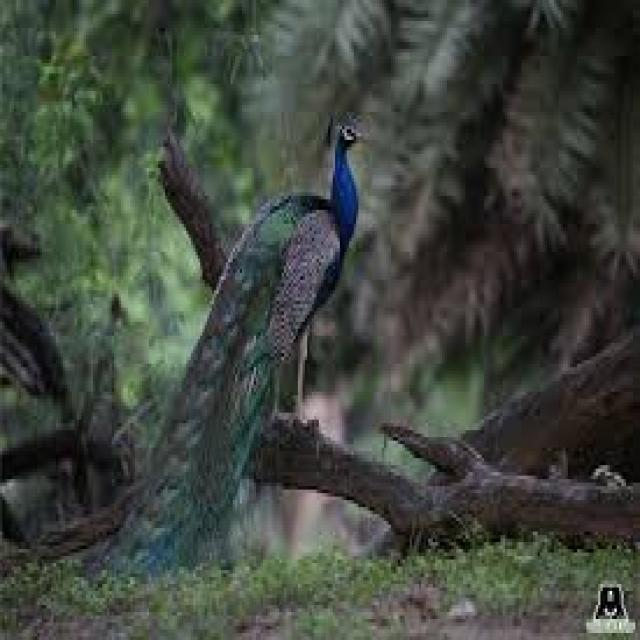peacock: (120, 109, 392, 568)
